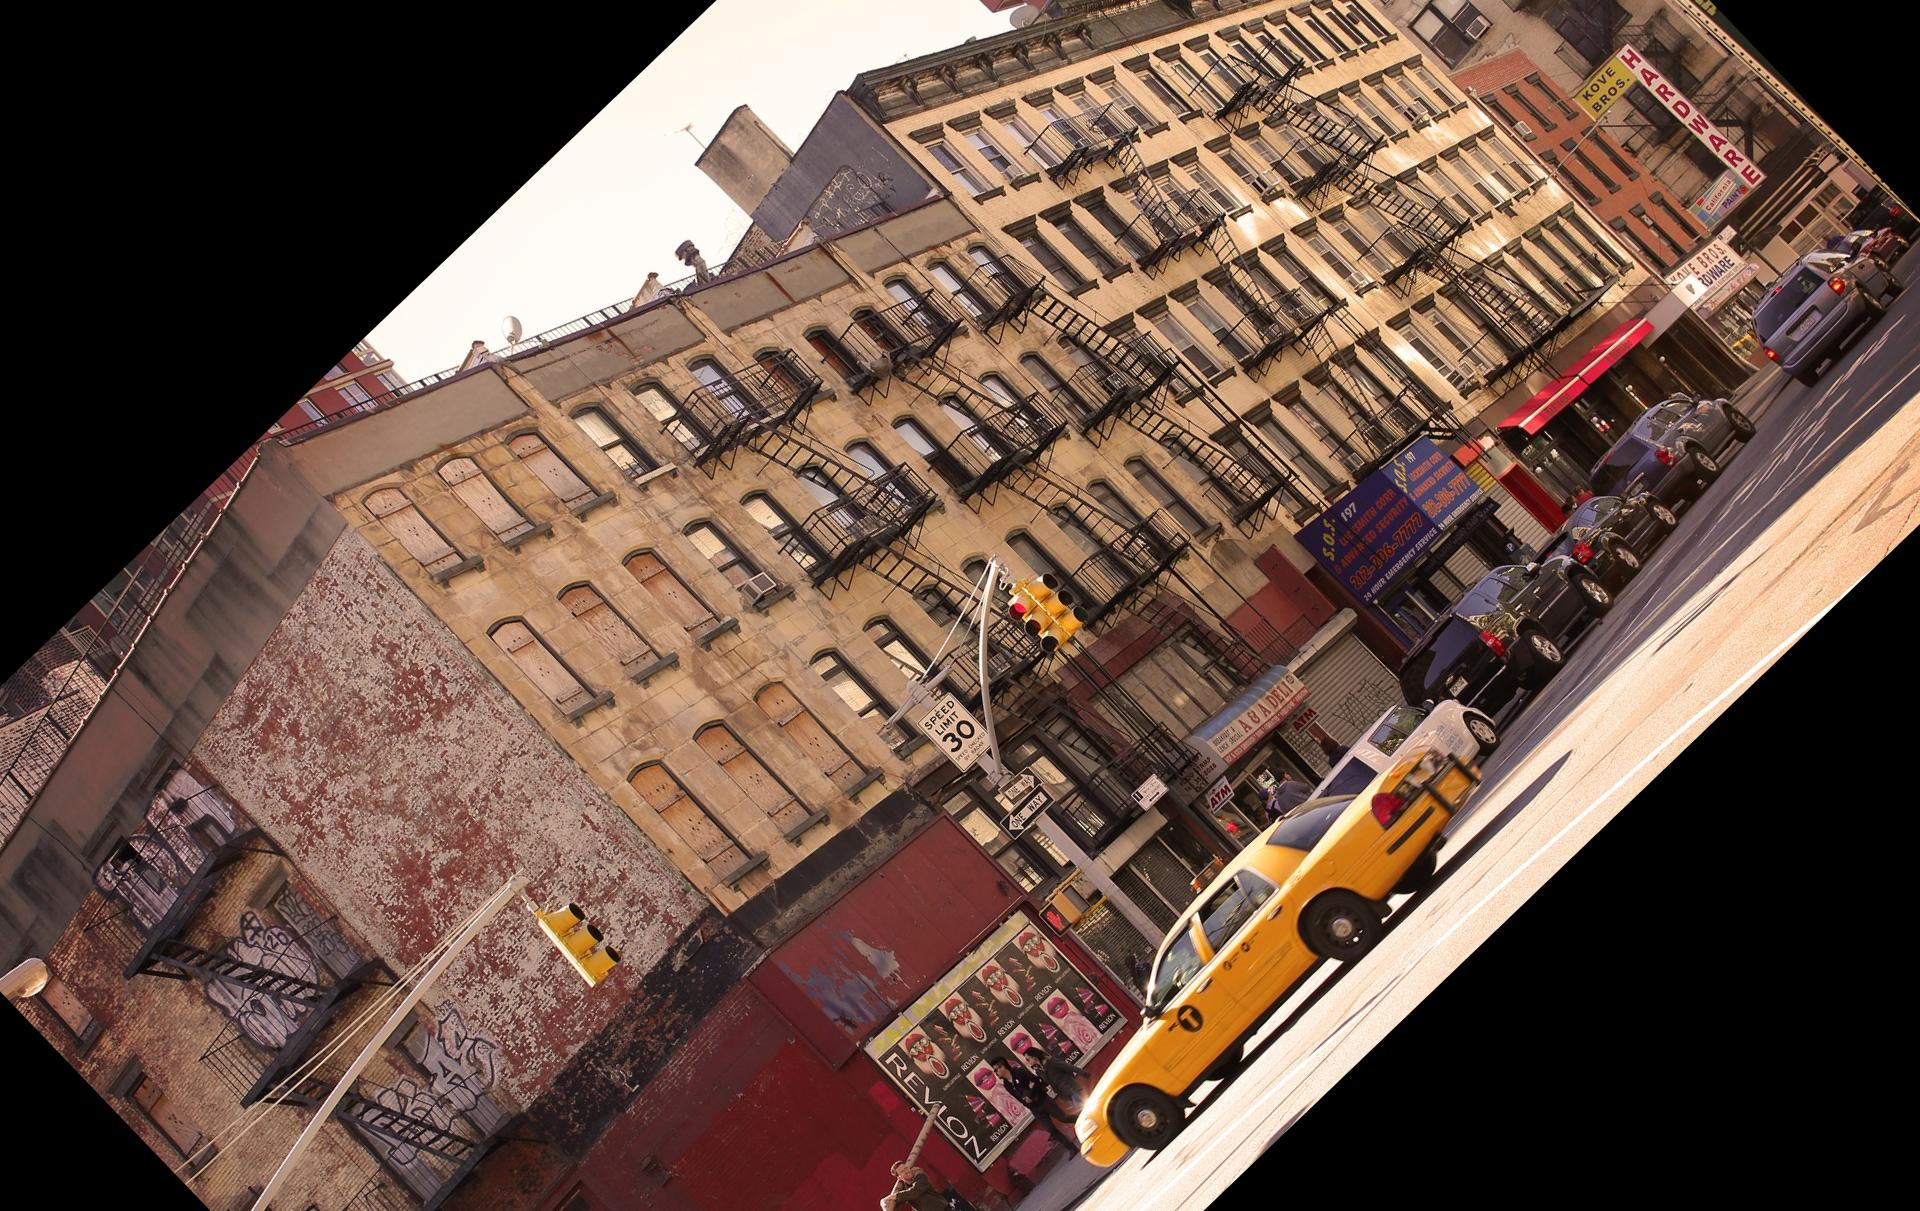taxi: (1073, 739, 1461, 1175)
